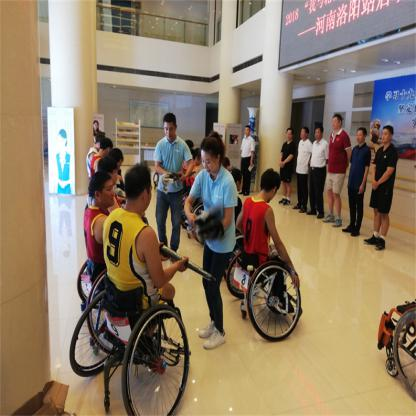wheelchair: (79, 165, 192, 415), (231, 165, 304, 341), (71, 169, 143, 335)
